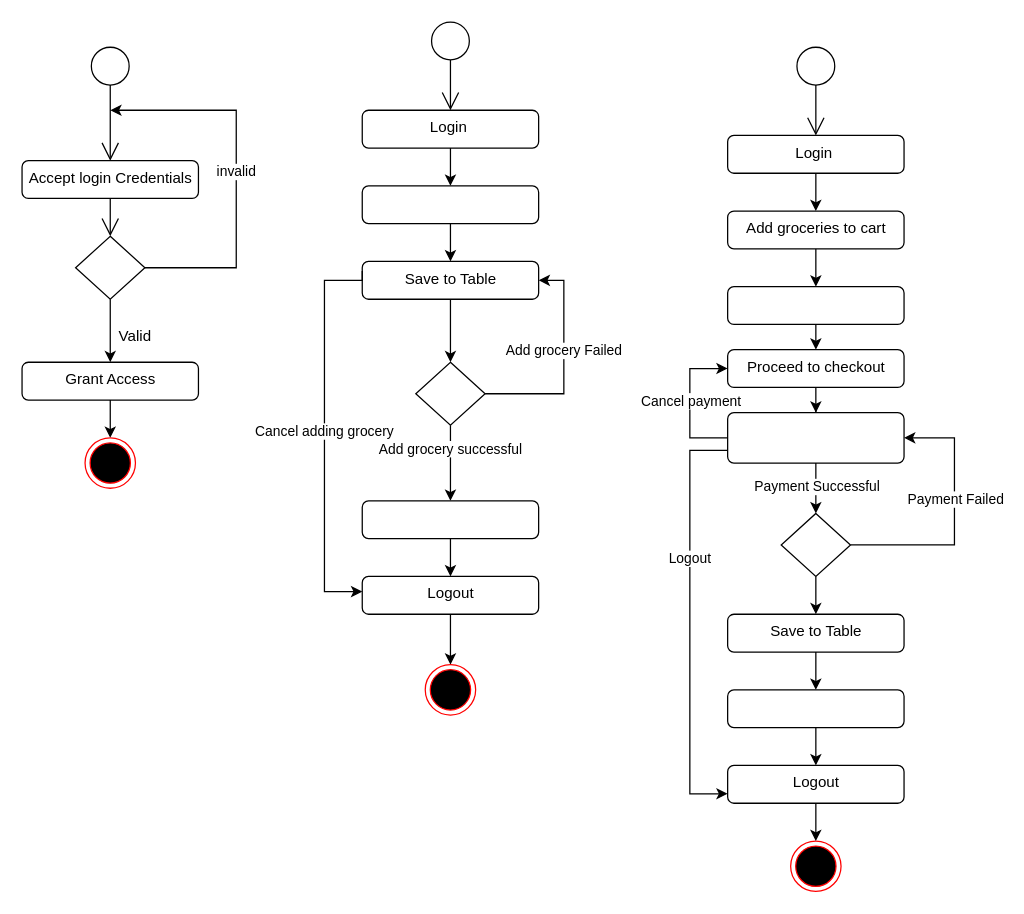
The diagram is 1024 pixels wide and 914 high, and some of its shapes have lost their labels. The shapes that lost their labels are listed below. From the top down, each one's centre as x and y in pixels, then its label:
At pixel 450 204: "Enter grocery details".
At pixel 815 304: "Click on cart".
At pixel 815 437: "Enter payment info and make payment".
At pixel 450 519: "Display all G rocery".
At pixel 815 708: "Display Payment Details".
